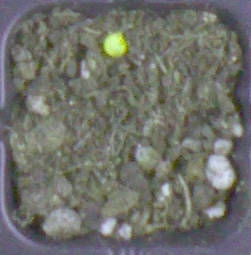pepper seed: (37, 1, 167, 60)
